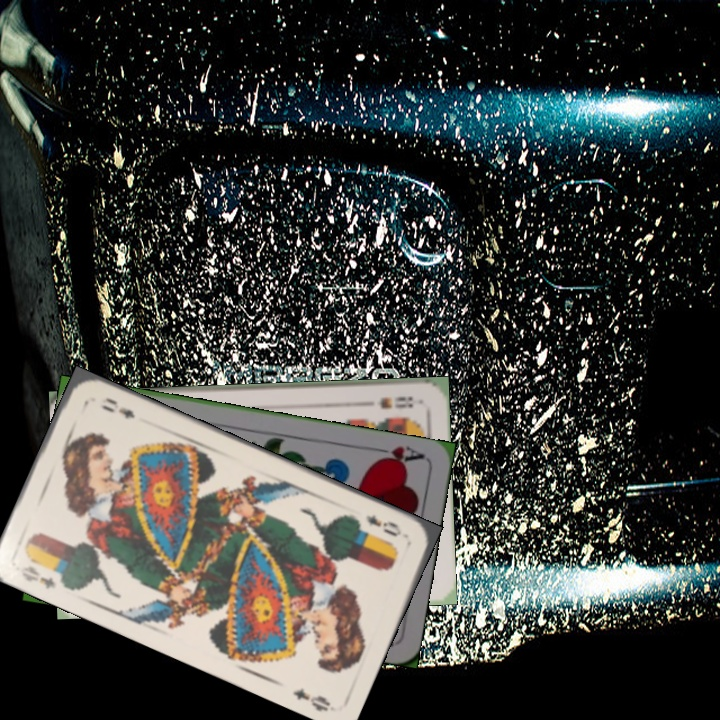EO: (362, 510, 410, 540), (16, 561, 59, 592)
HA: (368, 442, 427, 469)
S8: (374, 392, 415, 412)
